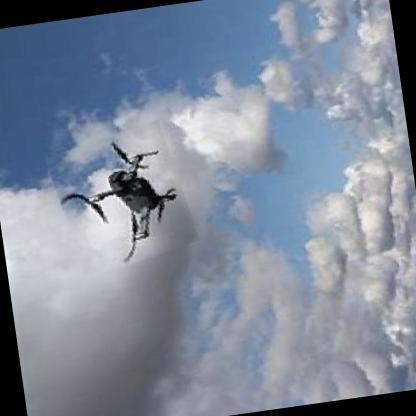drone: (48, 121, 197, 276)
